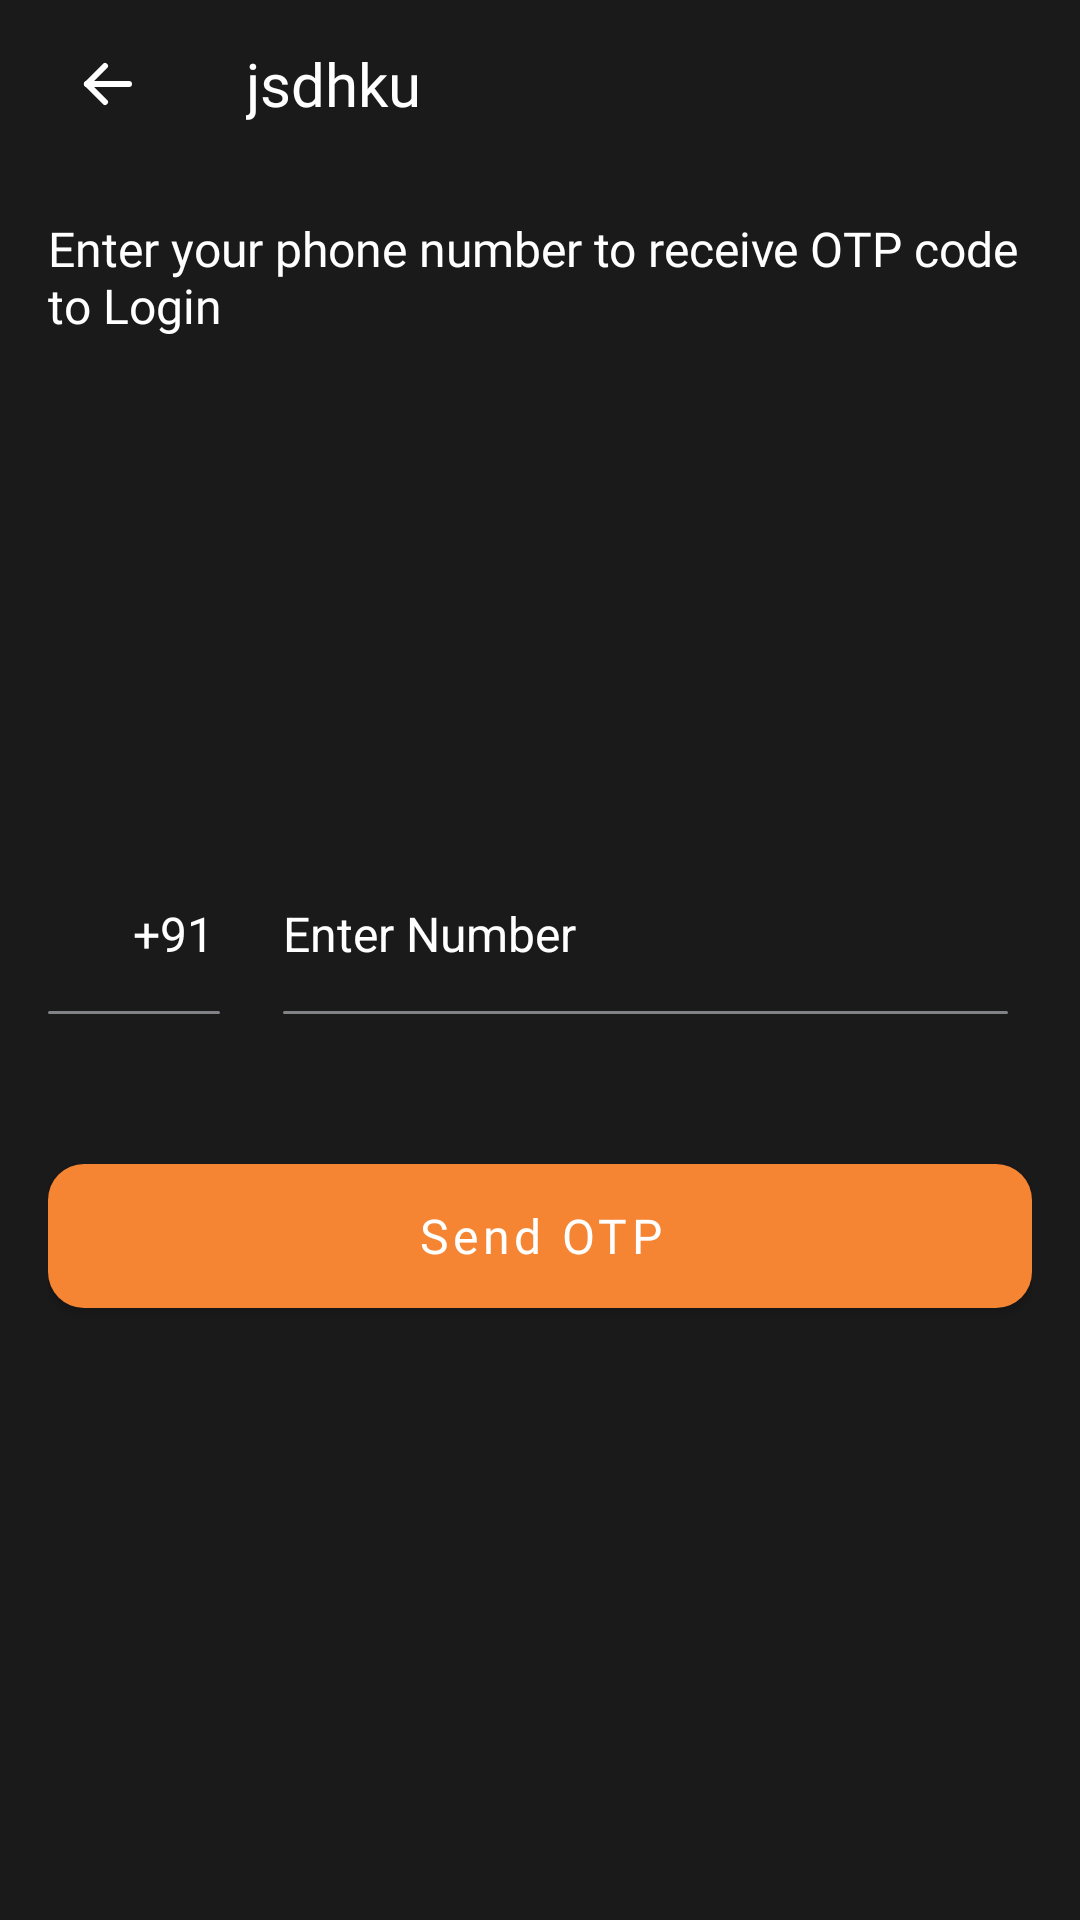

Icons on this 1080×1920 Android screen, each with its box as (x1, y1, x2, y2):
arrow left: (83, 63, 132, 105)
